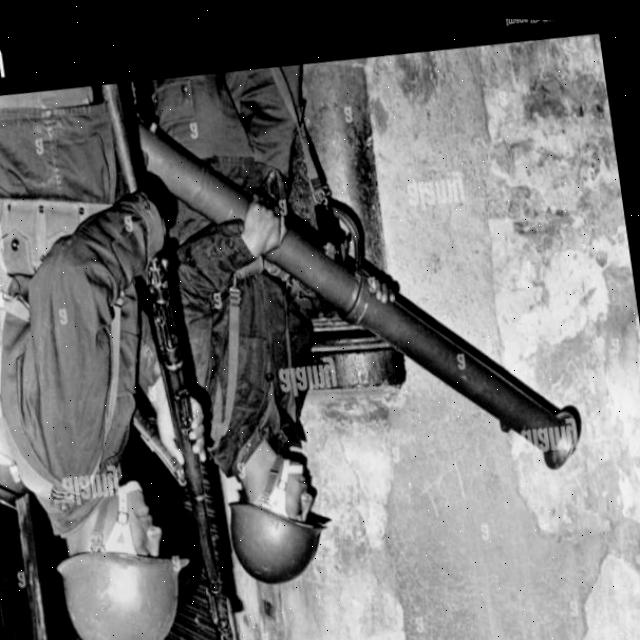rocket: (142, 64, 580, 524)
